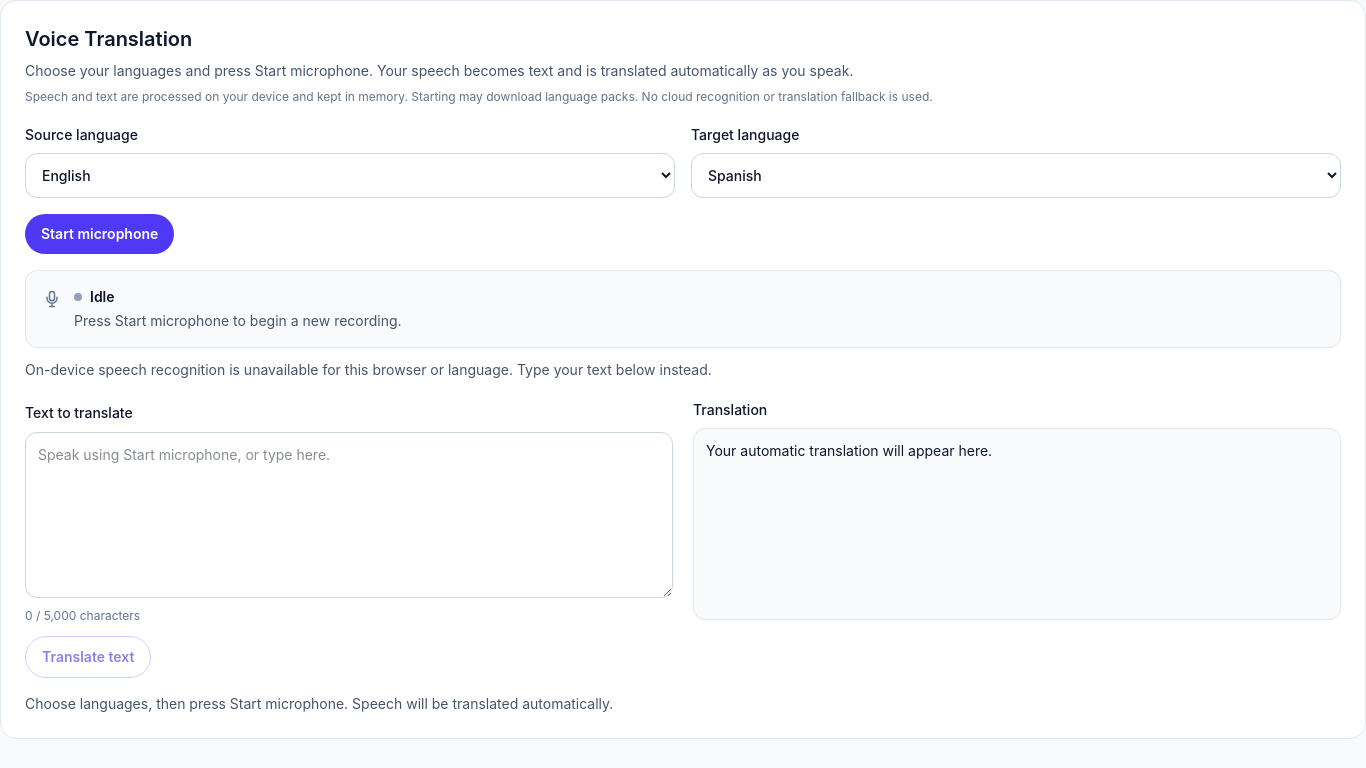
Test: prepares and translates typed text in one action even without speech support, and releases the model on leave
In the text box labelled "Text to translate": (349, 515) x1=25 y1=432 x2=673 y2=598, type "Hello world"
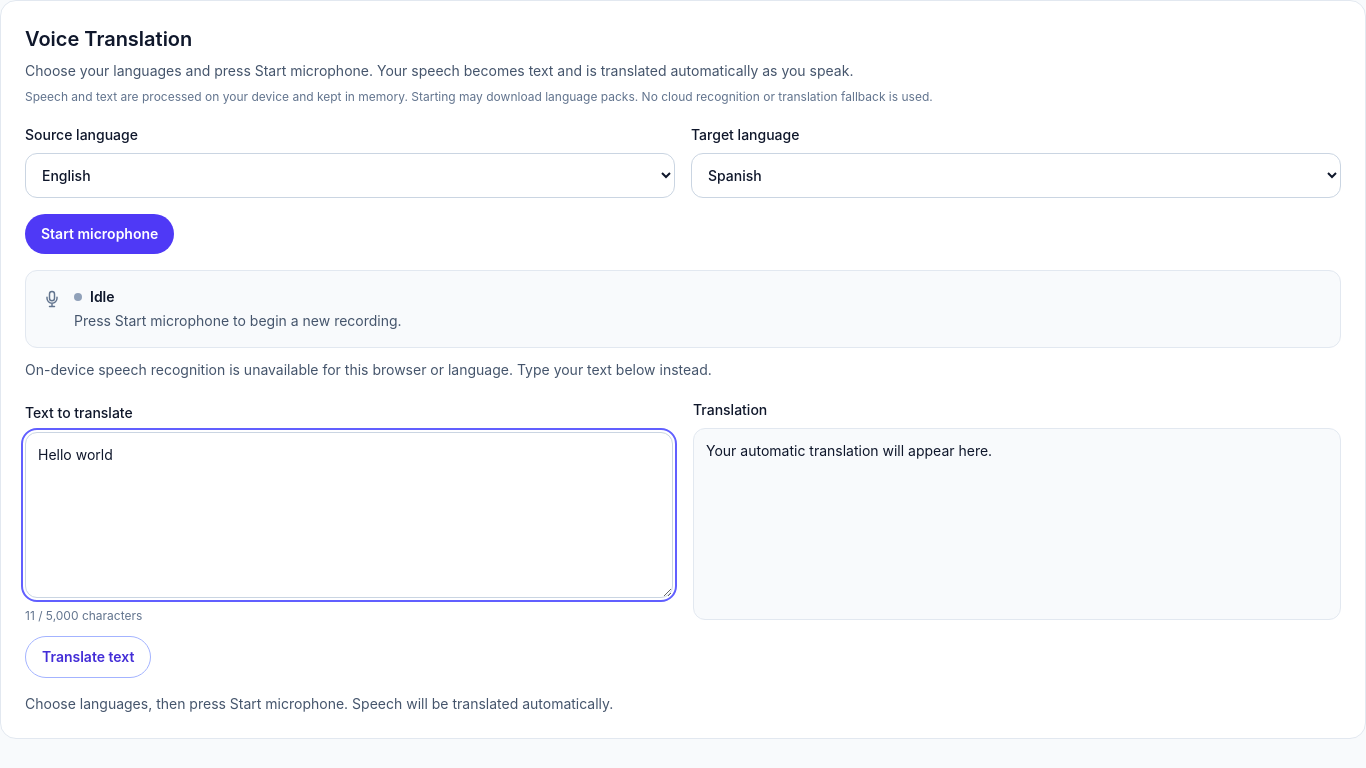
Click the button "Translate text": (88, 657) x1=25 y1=636 x2=151 y2=678
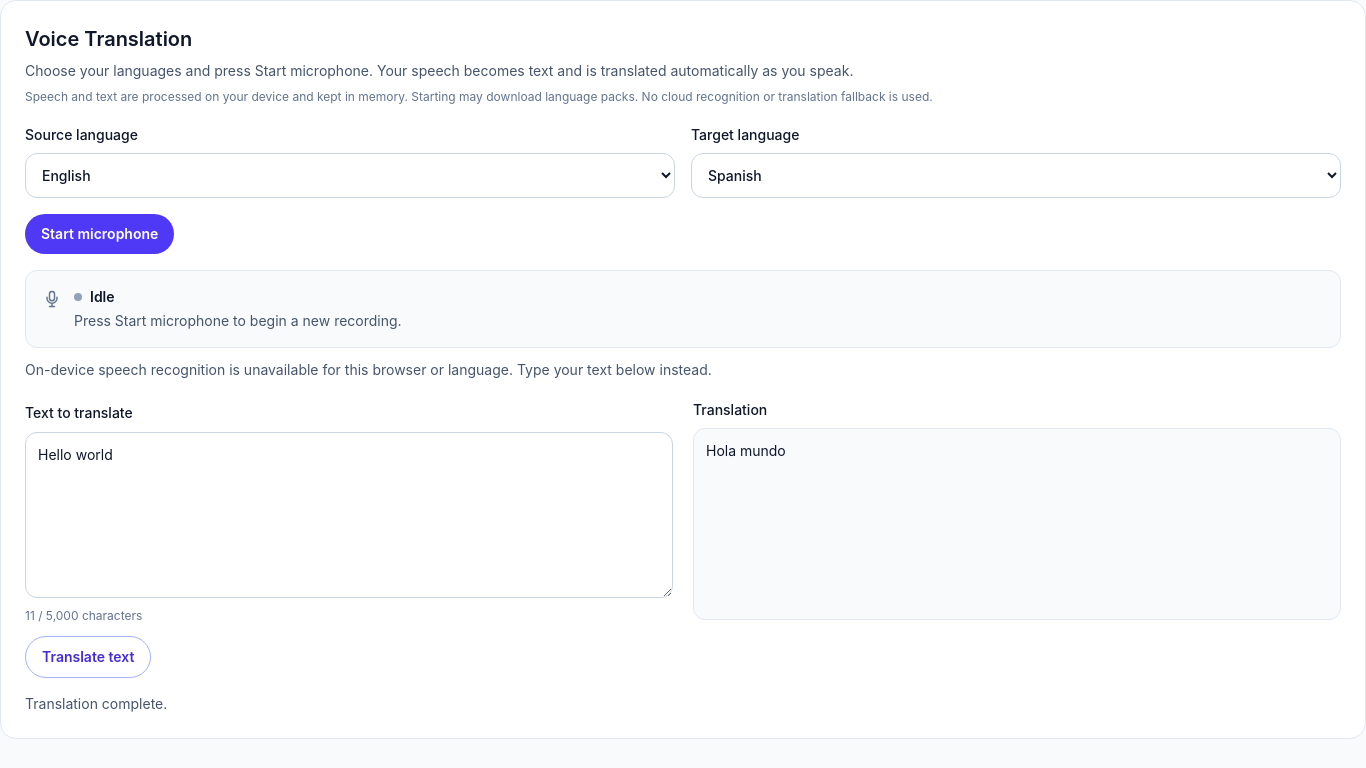
Now the text "Hola mundo" is shown, box x1=693 y1=428 x2=1341 y2=620
